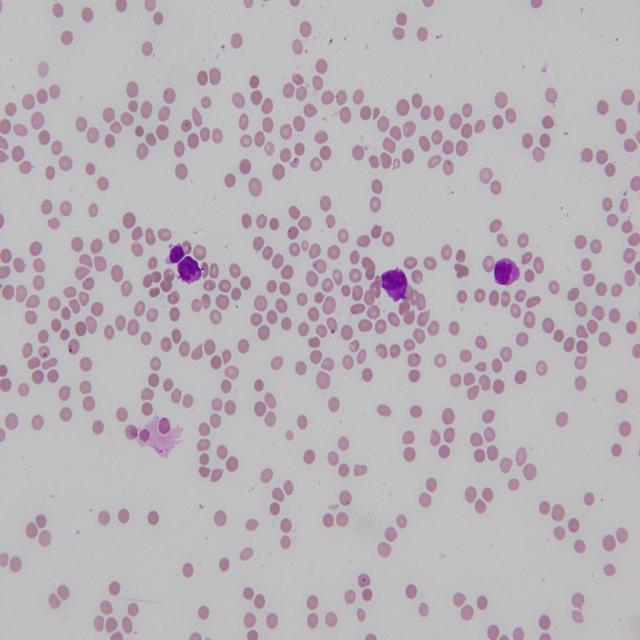cell: (381, 268, 408, 301), (494, 258, 520, 285), (178, 255, 201, 284), (166, 244, 185, 263)
